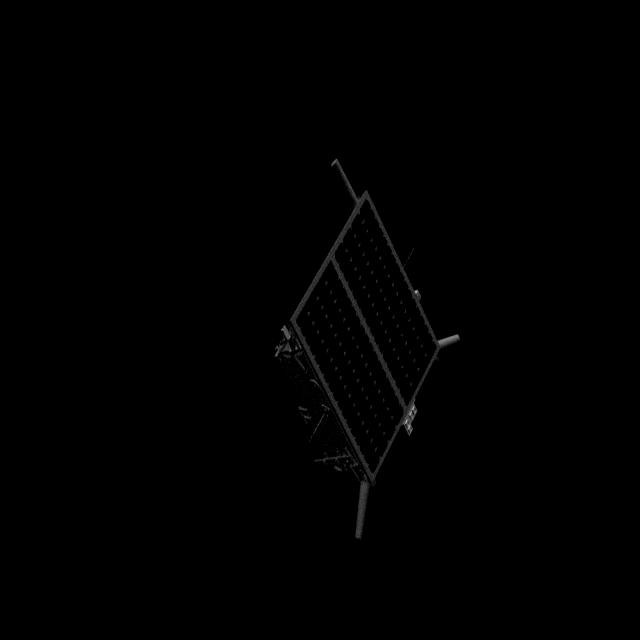medium_debris: (264, 152, 468, 544)
